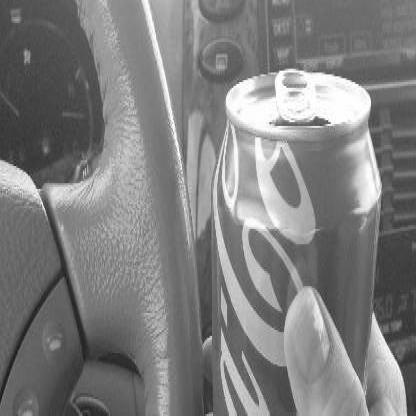alumunium_can: (211, 66, 382, 414)
